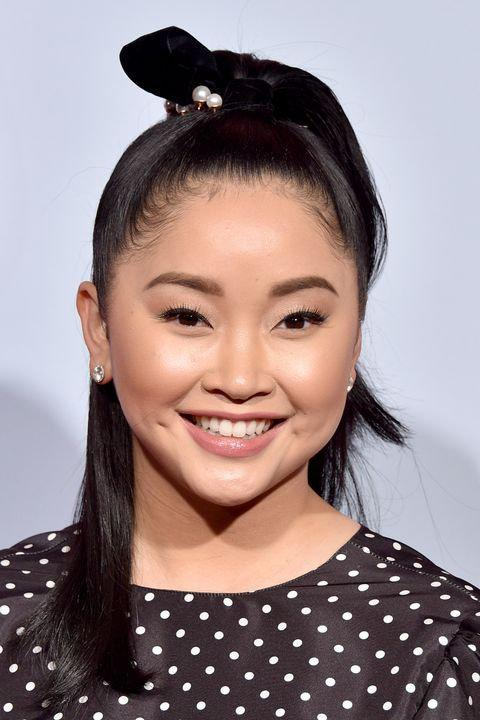Sober: (109, 197, 354, 480)
